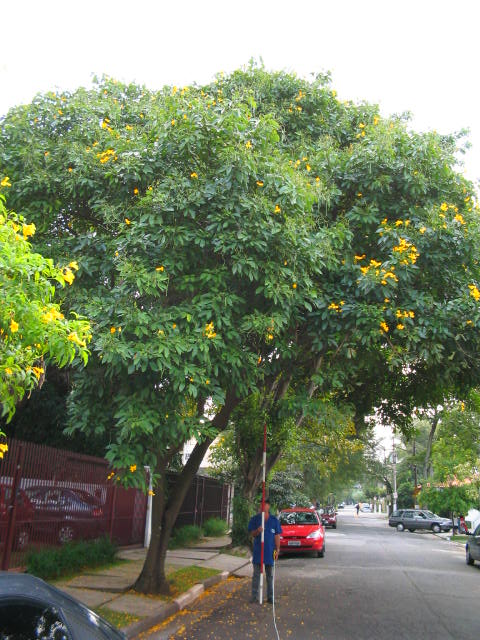crown: (4, 61, 476, 500)
stem: (125, 517, 183, 596)
stick: (253, 423, 274, 607)
tree: (1, 58, 478, 597)
